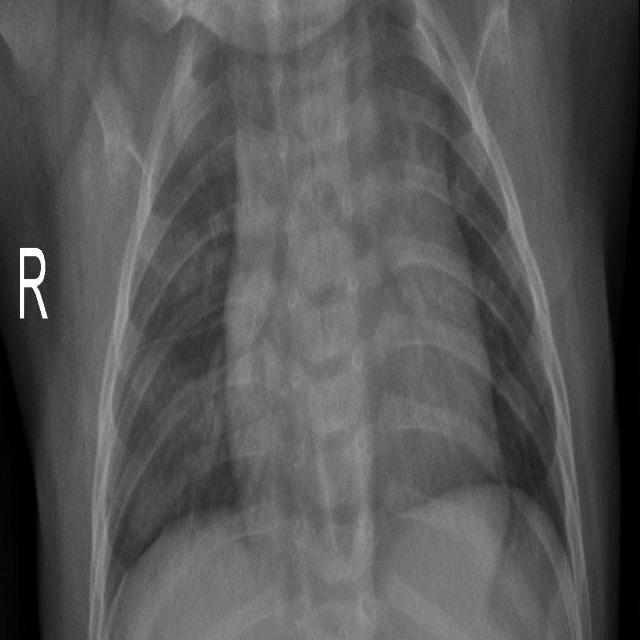no-pneumonia: (355, 5, 583, 579), (93, 37, 251, 632)
